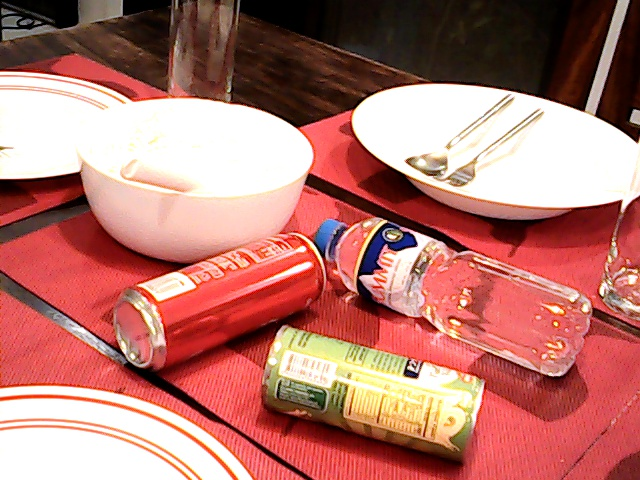Cola: (117, 233, 321, 340)
Pine Juice: (272, 340, 472, 451)
Summit Water: (337, 228, 552, 331)
